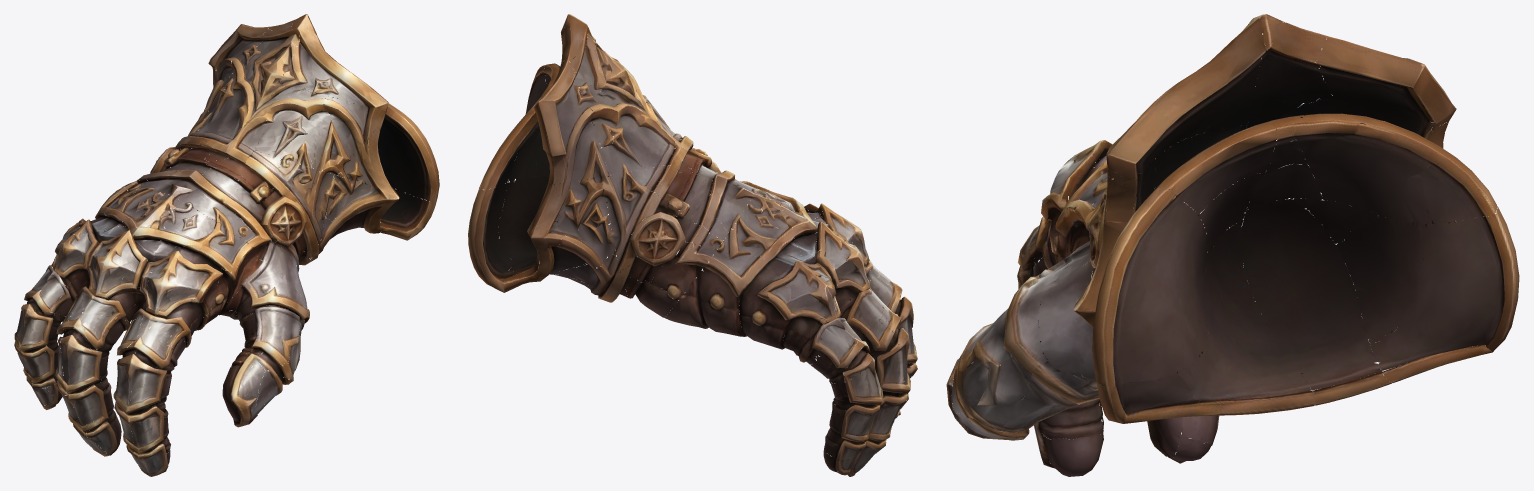
Rendered from gauntlet_l.glb.
The picture shows the model from 3 angles, left to right: view 1: azimuth 30°, elevation 25°; view 2: azimuth 150°, elevation 25°; view 3: azimuth 270°, elevation 25°; orthographic projection. The views are drawn at different scales.
Visible parts, largest first — view 1: tripo_node_0cb0479a-49fa-46bc-9c70-bf09687745b4; view 2: tripo_node_0cb0479a-49fa-46bc-9c70-bf09687745b4; view 3: tripo_node_0cb0479a-49fa-46bc-9c70-bf09687745b4.
Part boxes in pixels (x1,y1,x2,y2): tripo_node_0cb0479a-49fa-46bc-9c70-bf09687745b4: [14, 14, 439, 476]; tripo_node_0cb0479a-49fa-46bc-9c70-bf09687745b4: [468, 14, 917, 476]; tripo_node_0cb0479a-49fa-46bc-9c70-bf09687745b4: [946, 14, 1519, 476].
Size of the model in its own units: 0.9815 by 0.94 by 0.7639.
Materials: 1 (1 with a texture image).
